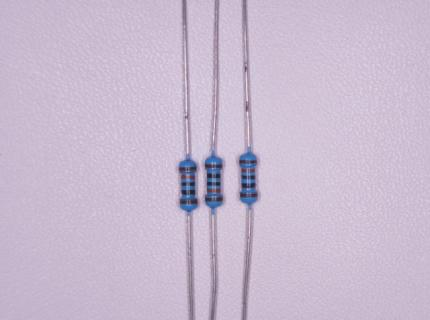Black band: (242, 183, 256, 188), (242, 175, 255, 180), (182, 190, 195, 195), (207, 174, 220, 178), (207, 182, 220, 186), (182, 182, 194, 186)
Brown band: (241, 192, 257, 198), (206, 197, 222, 202), (239, 160, 257, 164), (206, 164, 222, 168), (181, 200, 197, 204), (179, 167, 196, 170)
Orange band: (241, 169, 255, 173), (208, 188, 221, 192), (181, 175, 194, 179)
